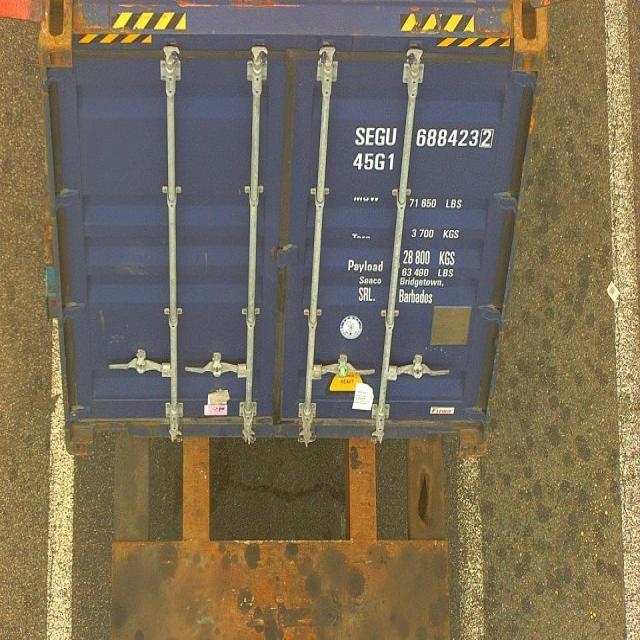ISO: (353, 154, 396, 172)
container_number: (351, 120, 498, 150)
